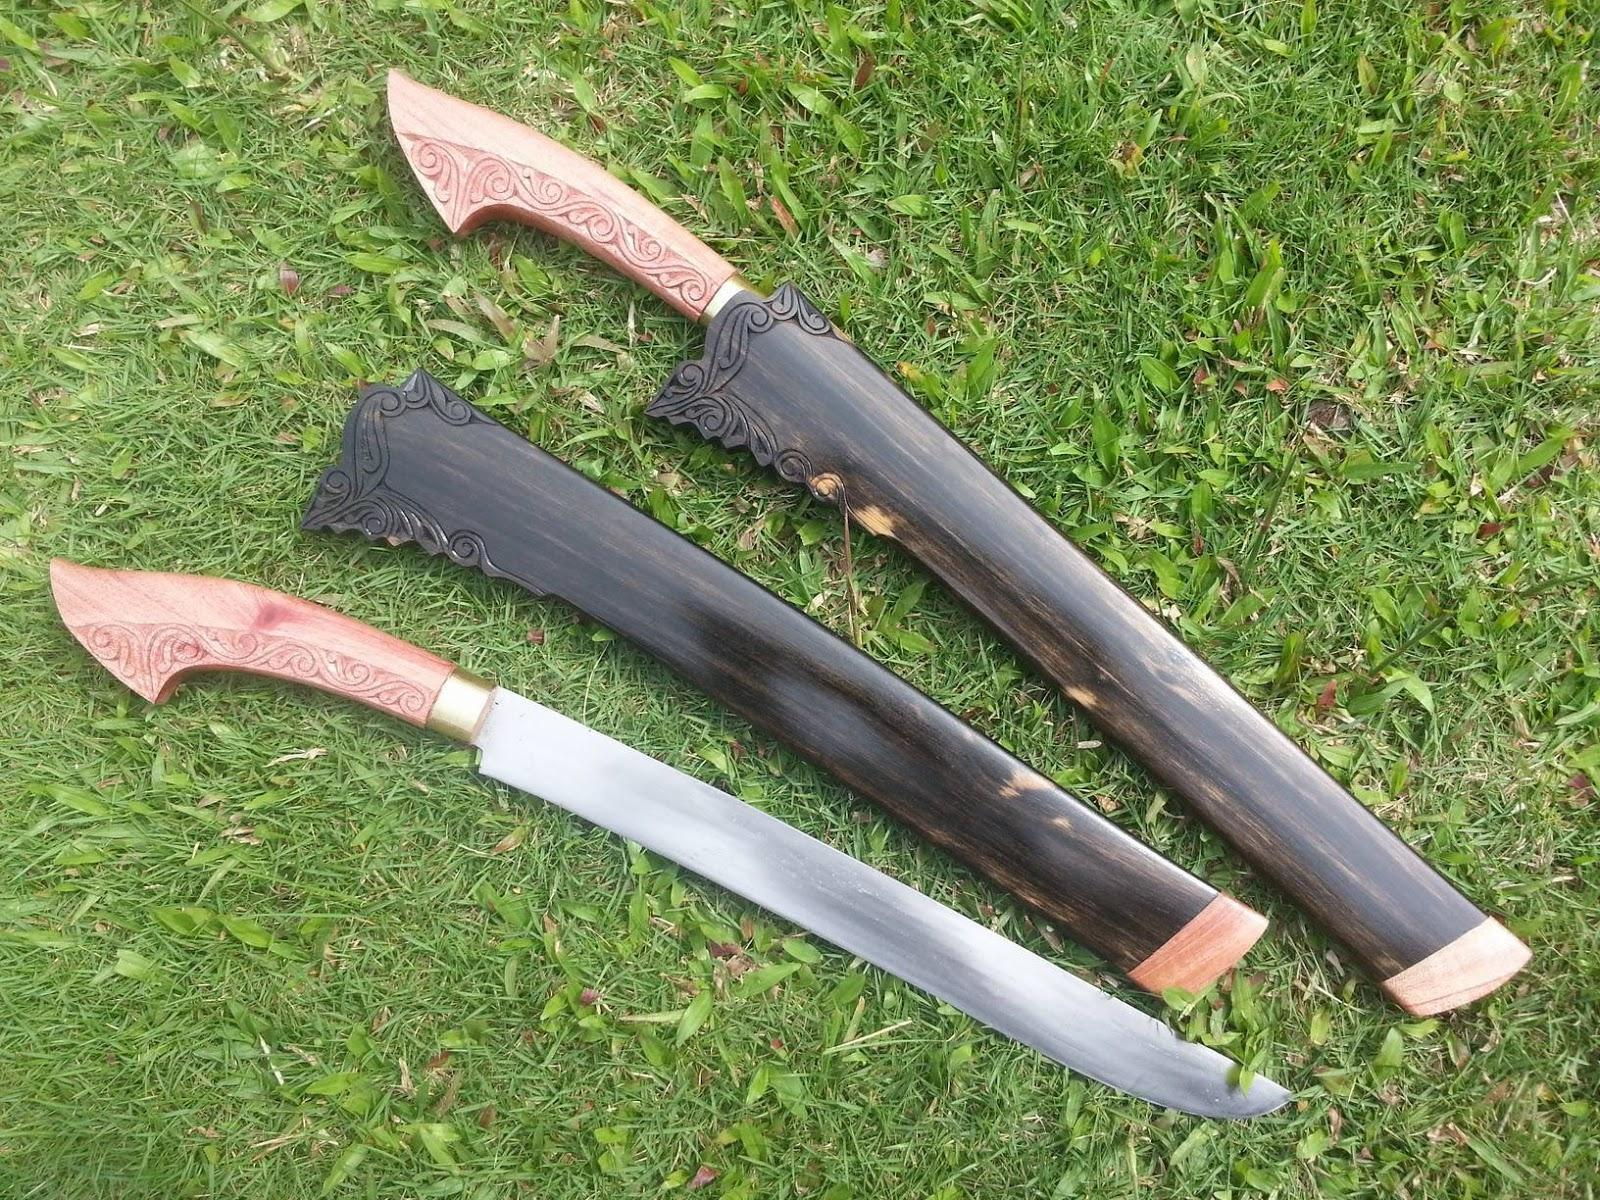espada: (377, 66, 1528, 1013), (50, 542, 1293, 1118)
